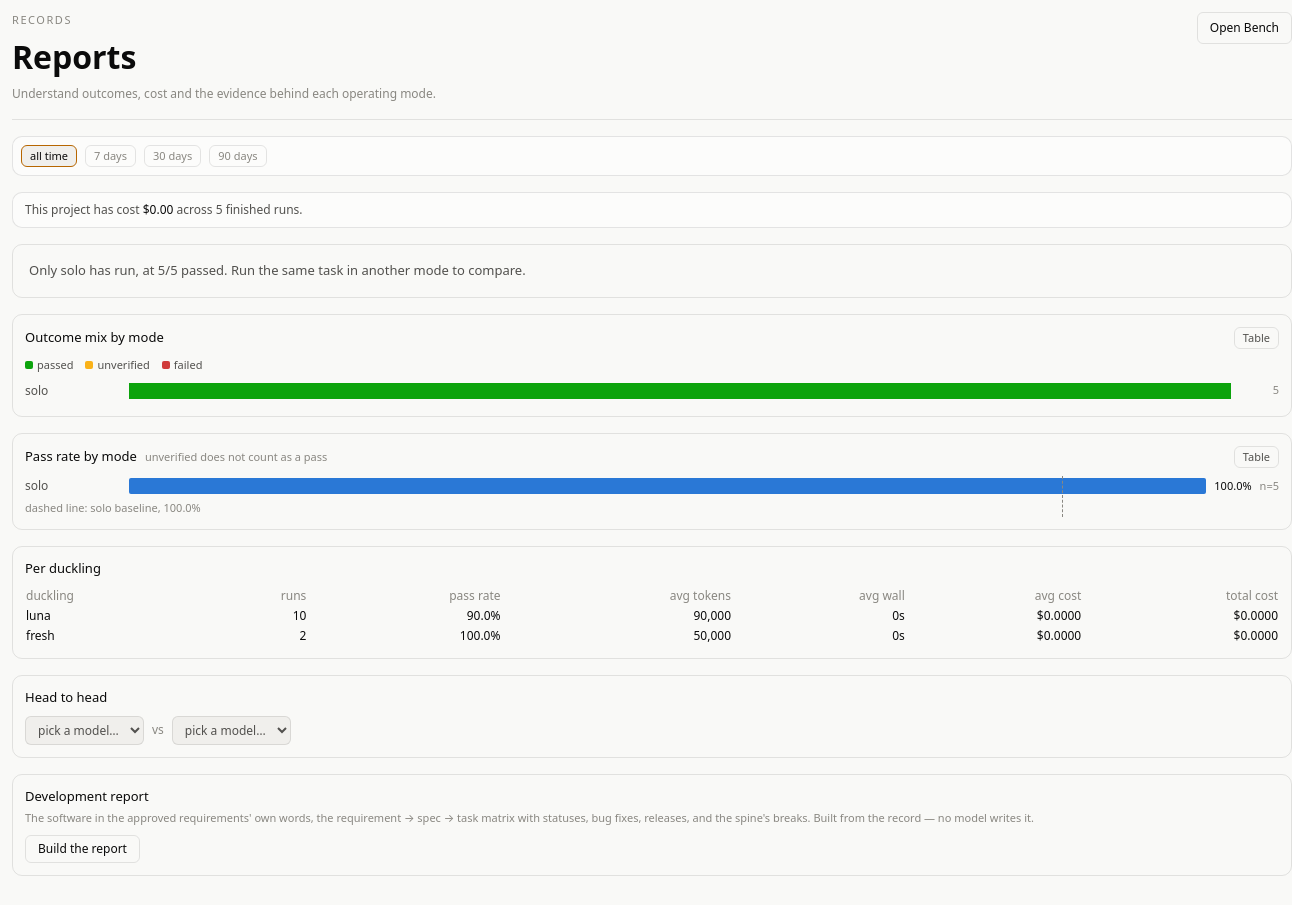
it: Reports › warns when one side's history is an anecdote
Expected: the element with test id "head-to-head" is shown, x1=12 y1=675 x2=1291 y2=758
Step 1. Select "luna" in the dropdown with test id "compare-a" → [84, 730], box x1=25 y1=716 x2=144 y2=744
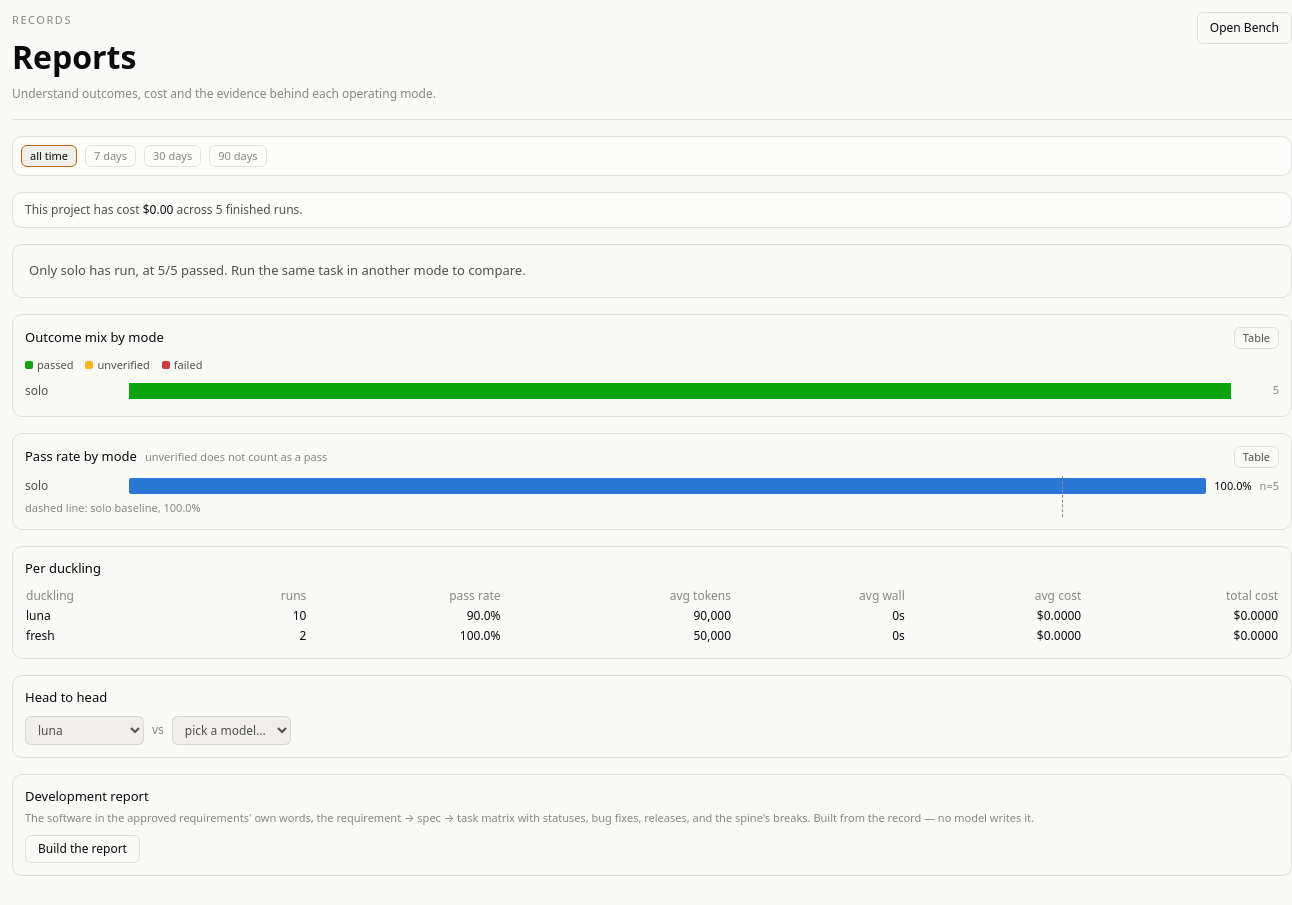
Step 2. Select "fresh" in the dropdown with test id "compare-b" → [231, 730], box x1=172 y1=716 x2=291 y2=744
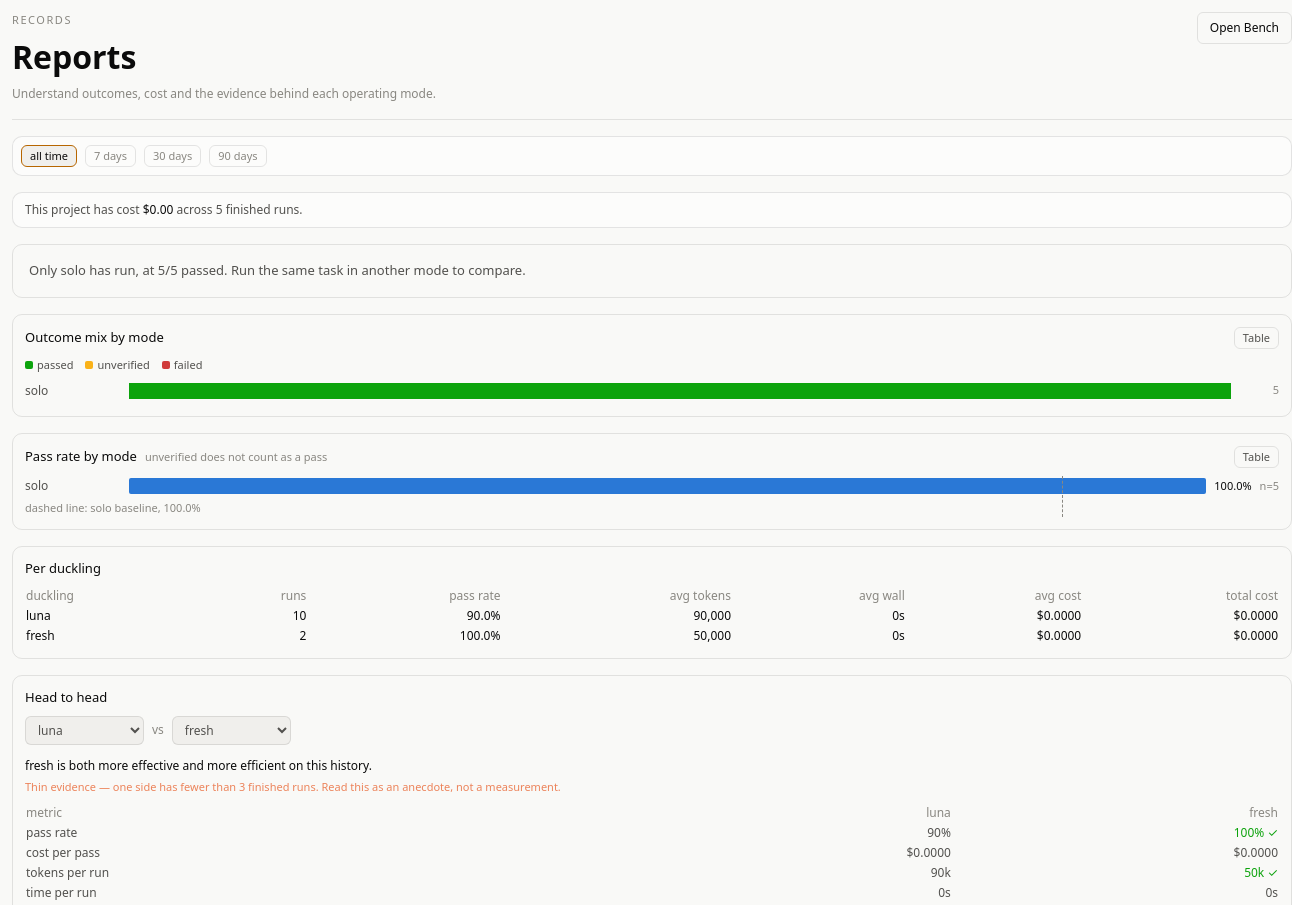
Result: the text with test id "compare-thin" shows "anecdote" at x1=25 y1=778 x2=561 y2=794
